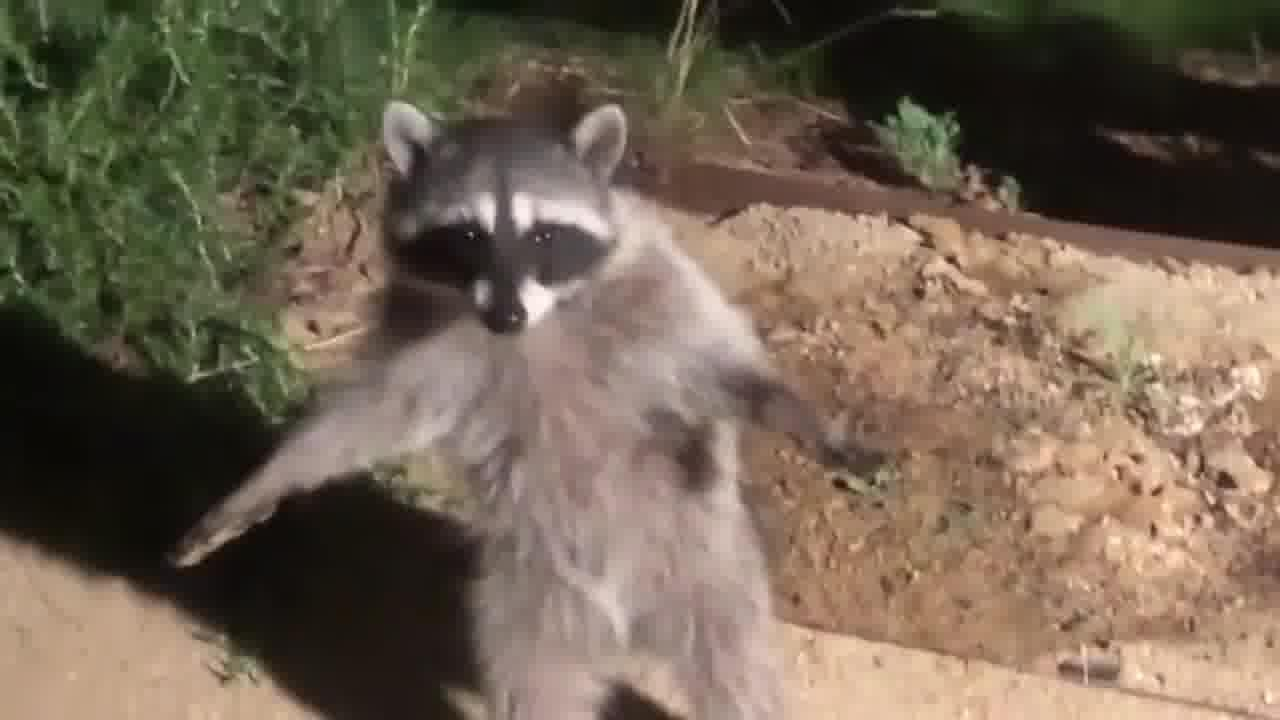raccoon: (175, 92, 898, 720)
